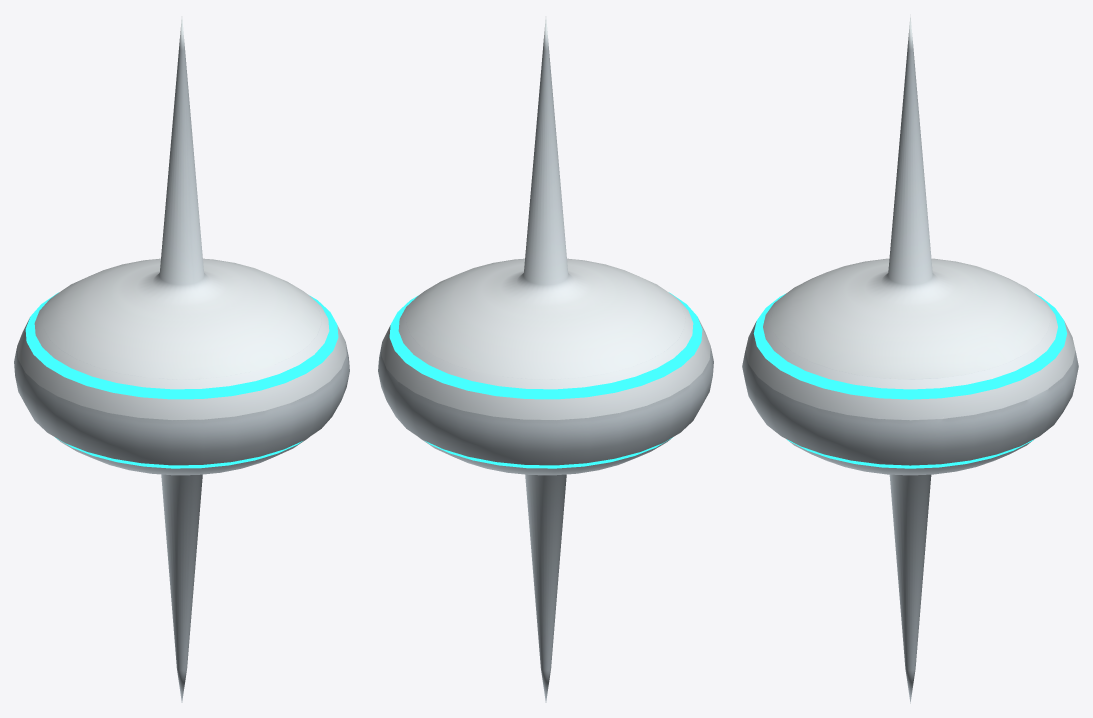
File: turnip 1.fbx
3 views of the same model, side by side, from view 1: azimuth 30°, elevation 25°; view 2: azimuth 150°, elevation 25°; view 3: azimuth 270°, elevation 25° (orthographic).
Parts seen in each view (by area): view 1: Sphere.003; view 2: Sphere.003; view 3: Sphere.003.
Part boxes in pixels (x1,y1,x2,y2): Sphere.003: (14,16,349,702); Sphere.003: (378,16,713,702); Sphere.003: (742,14,1078,703).
Size of the model in its own units: 1998 by 4518 by 1998.
Materials: 2 (1 with a texture image).
